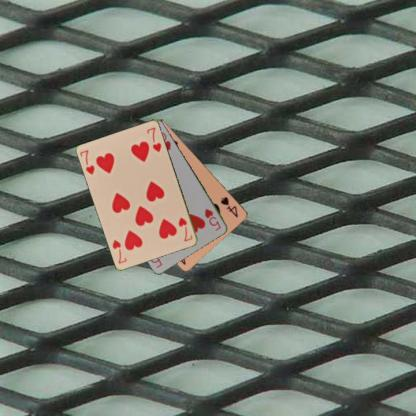4s: (218, 194, 240, 219)
5h: (202, 206, 223, 232)
7h: (77, 148, 96, 176), (176, 215, 194, 243)
